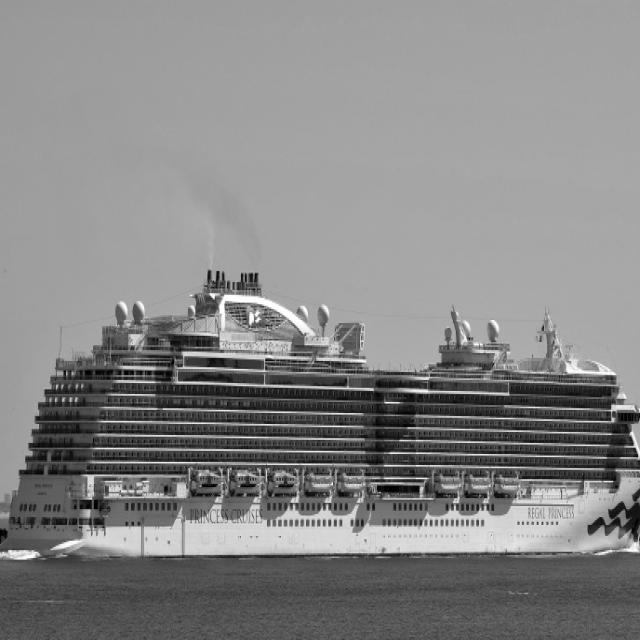cruises: (1, 259, 640, 575)
